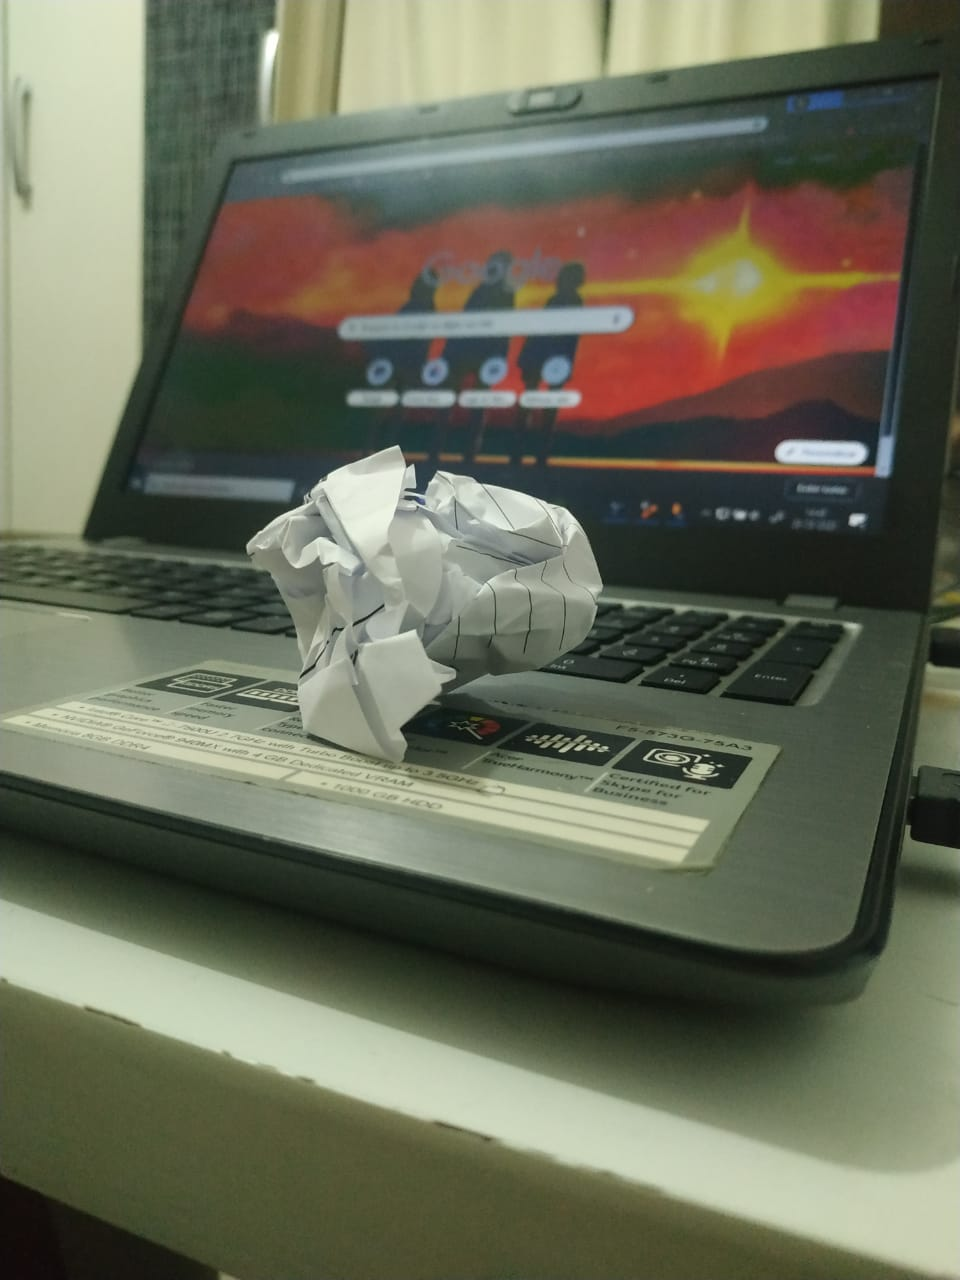paper-crumpled: (231, 425, 614, 774)
